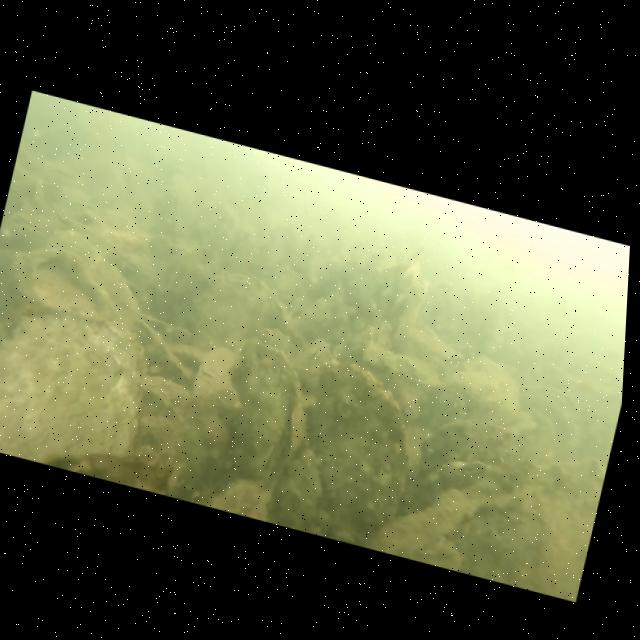Oyster-Closed: (281, 353, 430, 548), (288, 332, 333, 387), (435, 451, 491, 493)
Oyster-Indeterminate: (0, 286, 159, 486), (206, 333, 313, 487), (184, 261, 314, 364), (0, 234, 131, 330), (412, 402, 514, 503), (269, 443, 333, 536), (188, 339, 252, 415)
